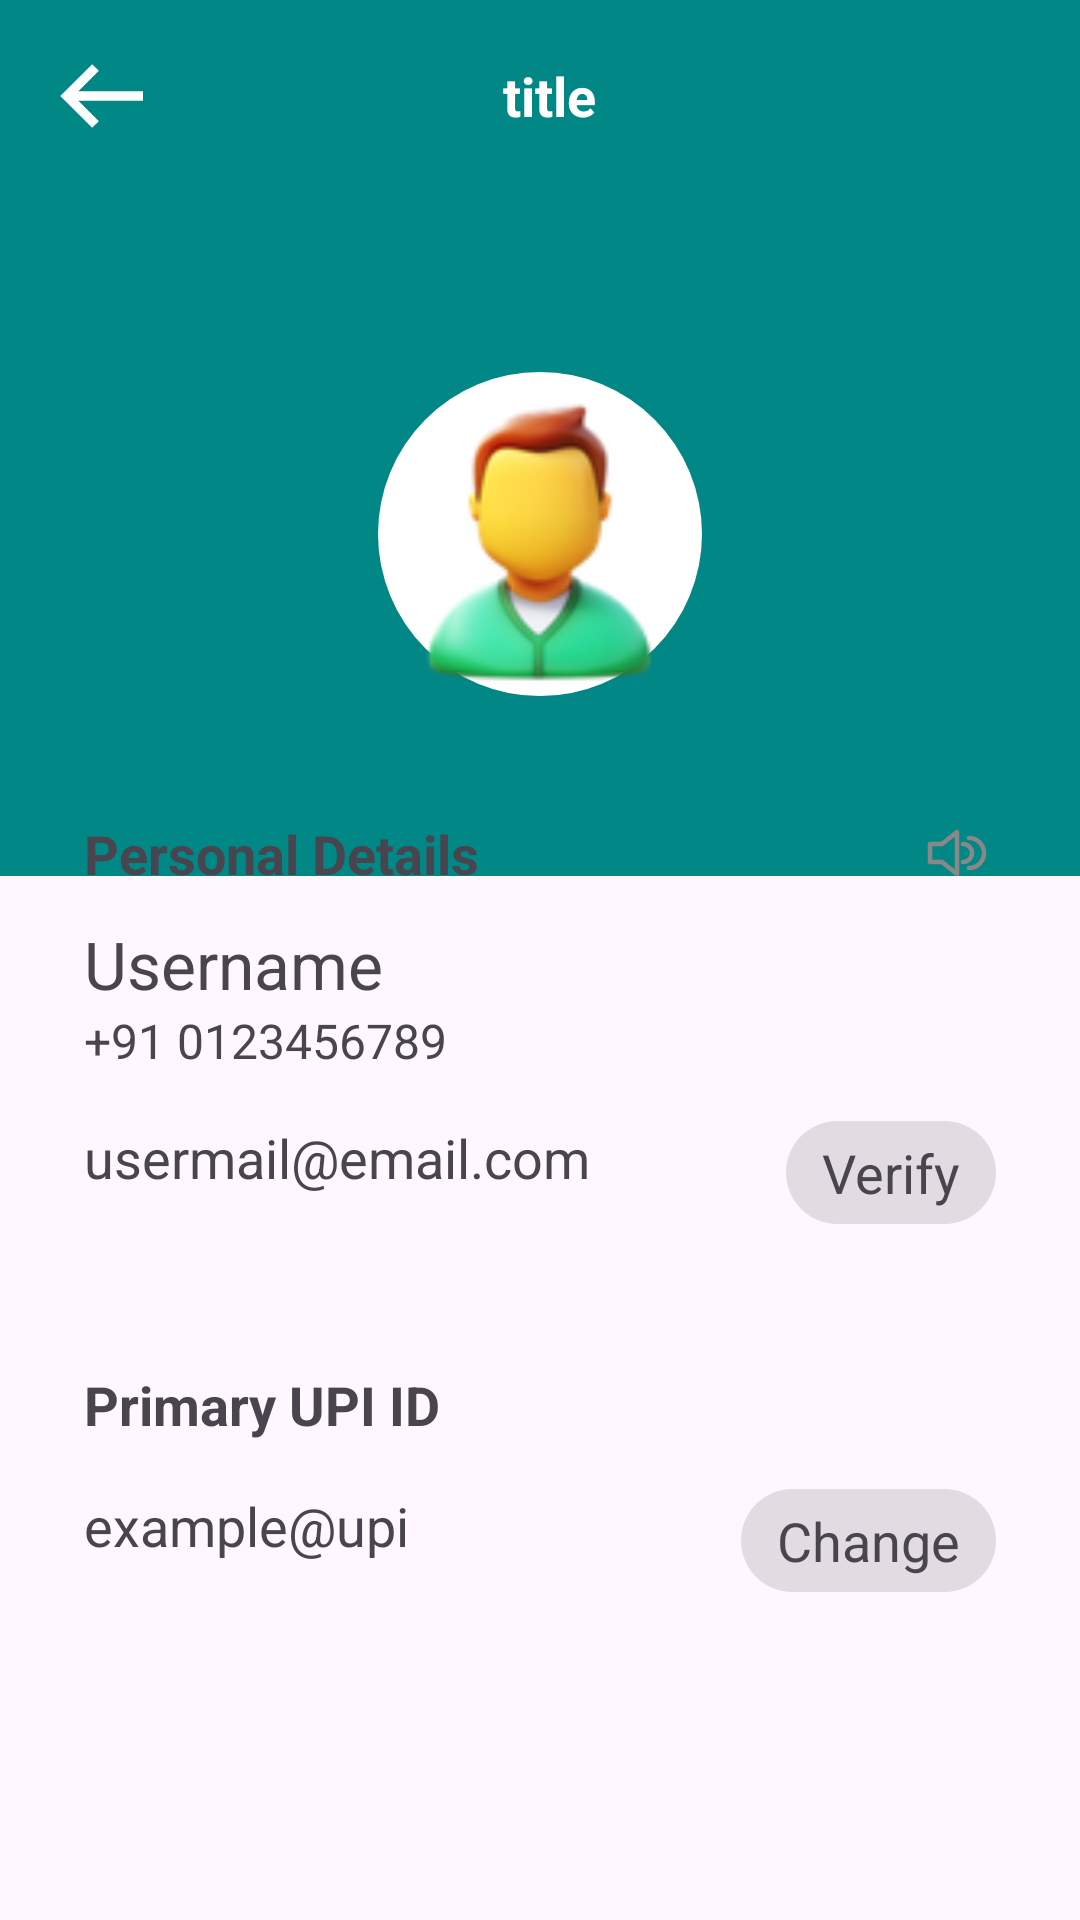

Named icons in this screenshot (1080px×1920px) and their bounding boxes, [x1, y1, x2, y2]:
avater: [378, 372, 702, 696]
back: [60, 64, 143, 128]
speaker: [924, 829, 996, 889]
